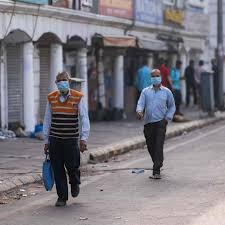mask: (55, 72, 70, 94), (150, 67, 163, 86), (176, 57, 183, 68), (196, 58, 203, 66), (189, 58, 193, 67)
